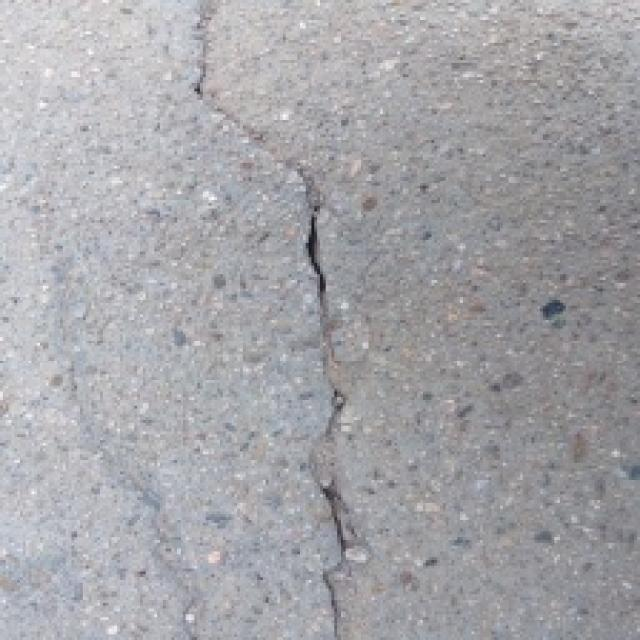crack: (170, 6, 414, 640)
